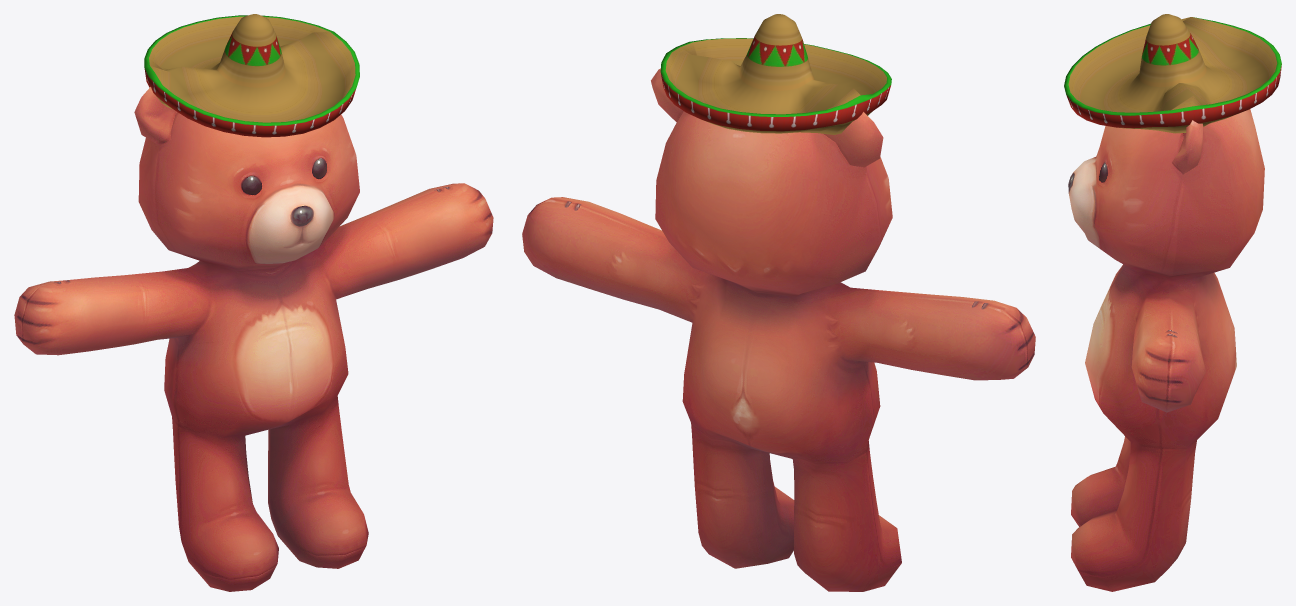
The model's file is OsitoMexicano.glb.
3 views of the same model, side by side, from view 1: azimuth 30°, elevation 25°; view 2: azimuth 150°, elevation 25°; view 3: azimuth 270°, elevation 25° (orthographic). The views are drawn at different scales.
Visible parts, largest first — view 1: Osito, Mexico; view 2: Osito, Mexico; view 3: Osito, Mexico.
Boxes of the visible parts, x1,y1,x2,y2 form: Osito: [14, 87, 493, 591]; Mexico: [144, 14, 359, 137]; Osito: [522, 68, 1035, 591]; Mexico: [660, 14, 891, 134]; Osito: [1068, 109, 1264, 591]; Mexico: [1064, 14, 1281, 133].
Bounding box in the file's own units: 2.11 × 2.35 × 0.8503.
Materials: 2 (2 with a texture image).
